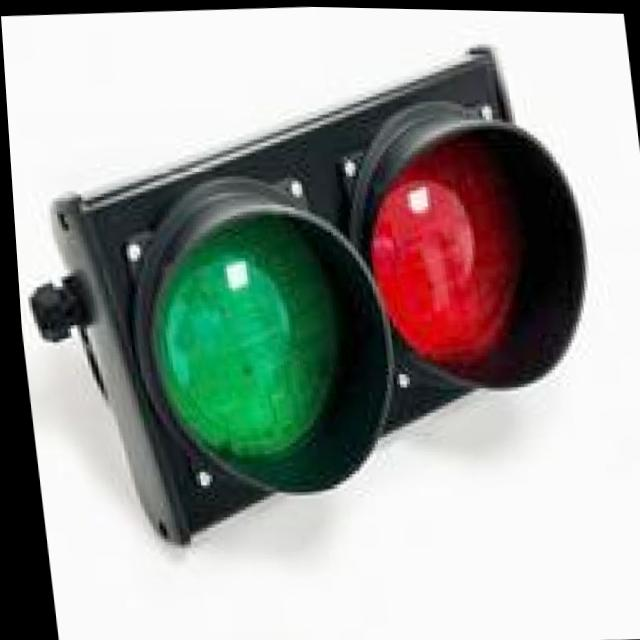green_light: (108, 152, 452, 532)
red_light: (352, 115, 633, 378)
